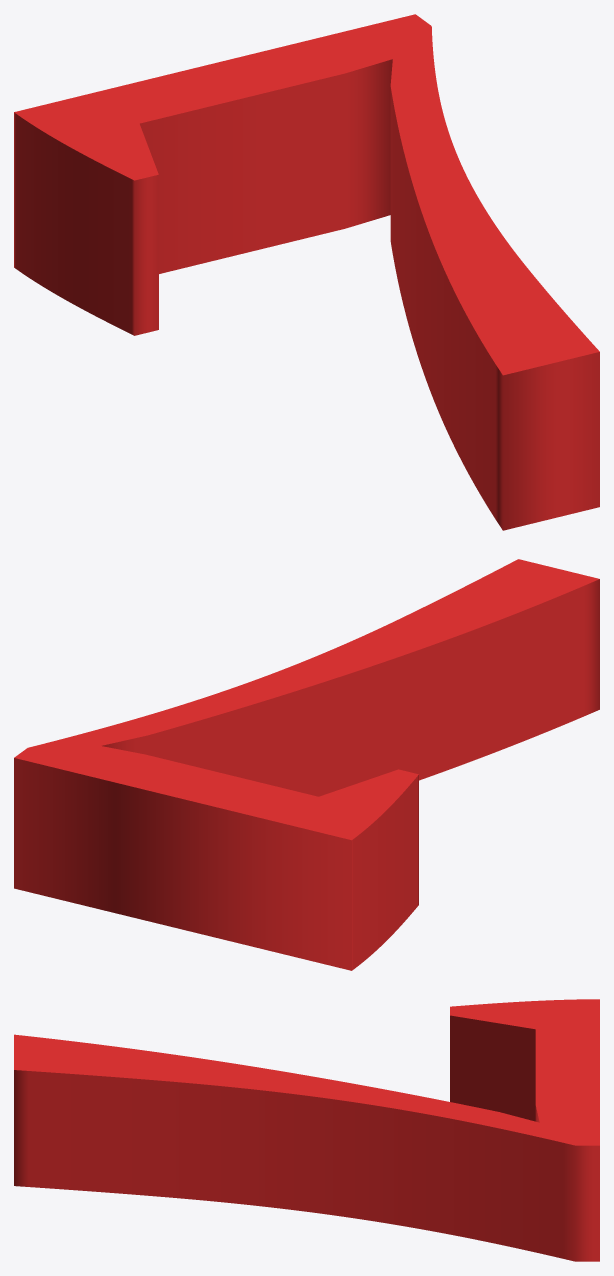
File: seven.glb
3 views of the same model, one above another, from view 1: azimuth 30°, elevation 25°; view 2: azimuth 150°, elevation 25°; view 3: azimuth 270°, elevation 25° (orthographic). The views are drawn at different scales.
Visible parts, largest first — view 1: Текст; view 2: Текст; view 3: Текст.
Part boxes in pixels (bbox=[...]): Текст: bbox=[14, 14, 599, 530]; Текст: bbox=[14, 559, 599, 970]; Текст: bbox=[14, 999, 599, 1261].
Bounding box in the file's own units: 0.3247 × 0.12 × 0.549.
